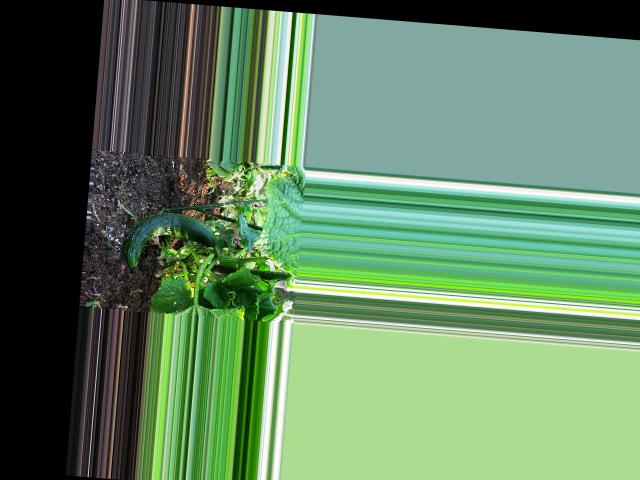cucumber: (122, 208, 220, 275)
